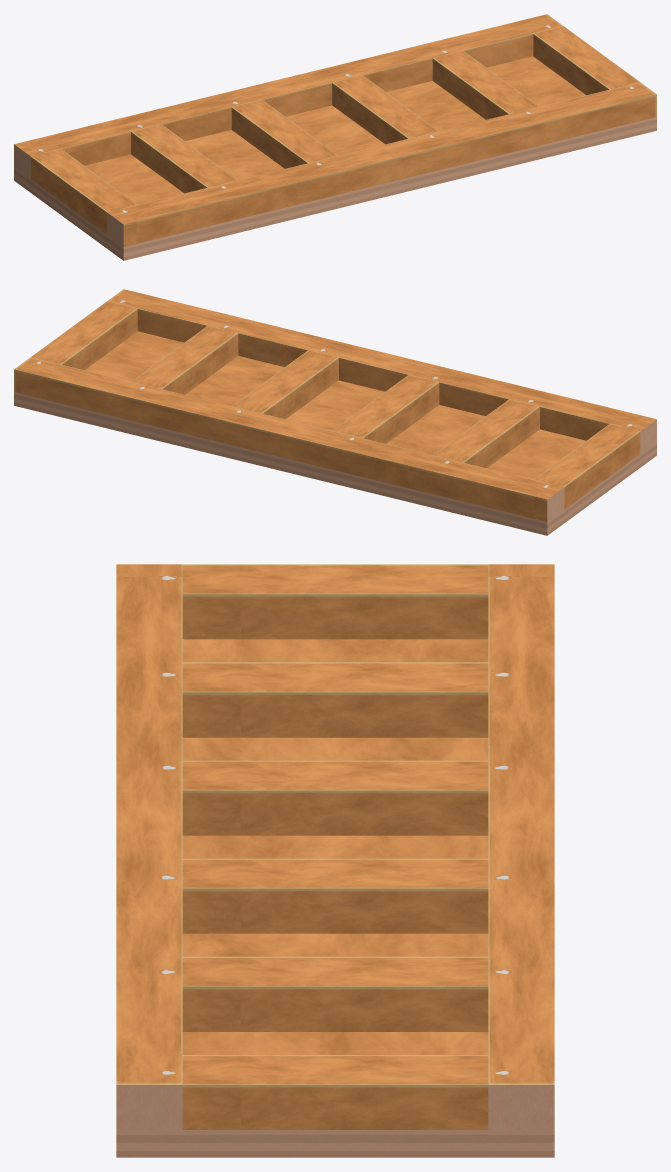
The model's file is LadderPlank_1.fbx.
3 renders of one model, top to bottom at view 1: azimuth 30°, elevation 25°; view 2: azimuth 150°, elevation 25°; view 3: azimuth 270°, elevation 25°, orthographic. The views are drawn at different scales.
Parts seen in each view (by area): view 1: LadderPlank_1; view 2: LadderPlank_1; view 3: LadderPlank_1.
Part boxes in pixels (<box>): LadderPlank_1: <box>14,14,656,260</box>; LadderPlank_1: <box>14,289,656,535</box>; LadderPlank_1: <box>116,564,554,1157</box>.
Bounding box in the file's own units: 2 × 0.1304 × 0.7122.
